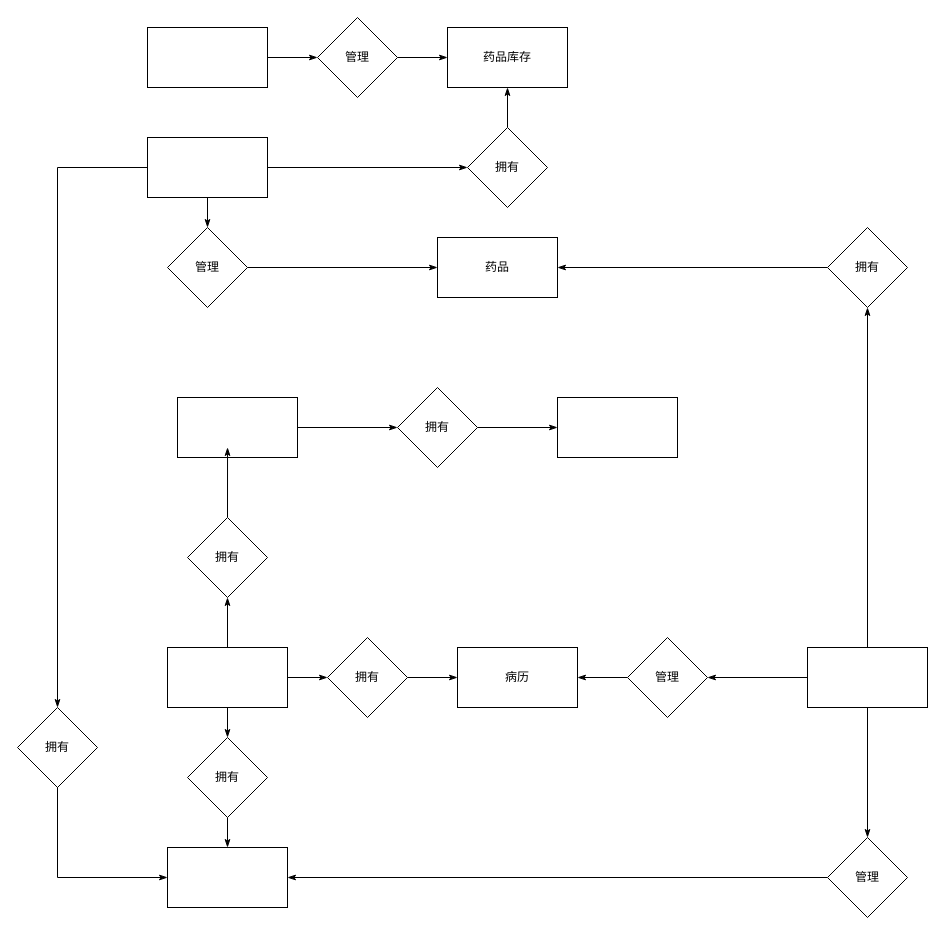
Some shapes in this 945 by 935 pixel diagram are drawn without their labels. The centre of each missing label's shape, as x and y in pixels:
"医生" belongs at point 867,677.
"处方" belongs at point 227,877.
"患者" belongs at point 227,677.
"支付信息" belongs at point 617,427.
"管理员" belongs at point 207,57.
"药剂师" belongs at point 207,167.
"订单" belongs at point 237,427.
